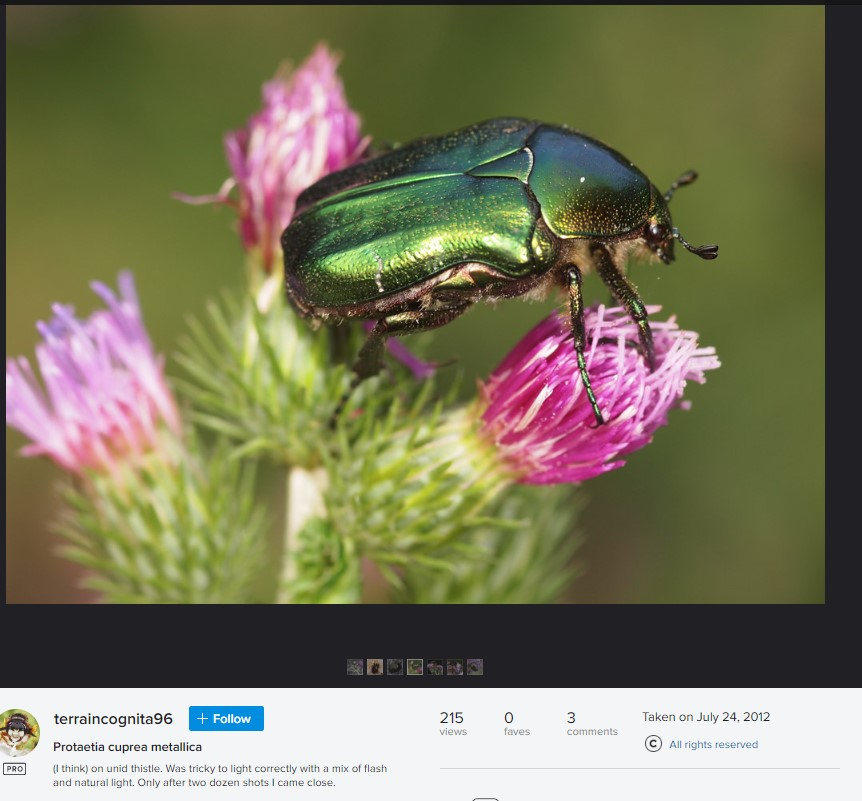Protaetia_metallica: (271, 110, 739, 437)
